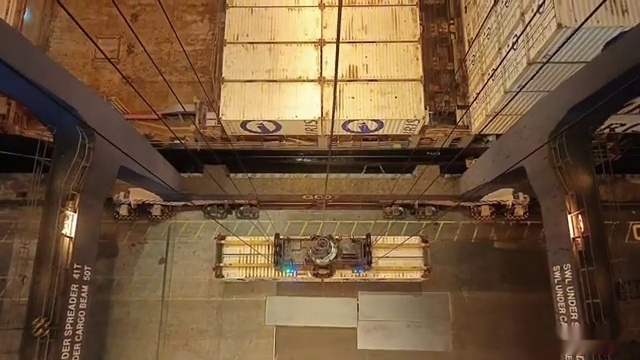container: (205, 225, 438, 287), (218, 81, 425, 138), (215, 42, 421, 80), (222, 7, 423, 42), (222, 0, 424, 23), (222, 0, 421, 20), (455, 3, 640, 24), (209, 0, 435, 17)
guide_mark: (112, 226, 546, 244), (66, 350, 560, 360)
spreader: (208, 230, 436, 286)
target_slot: (168, 247, 415, 306)
